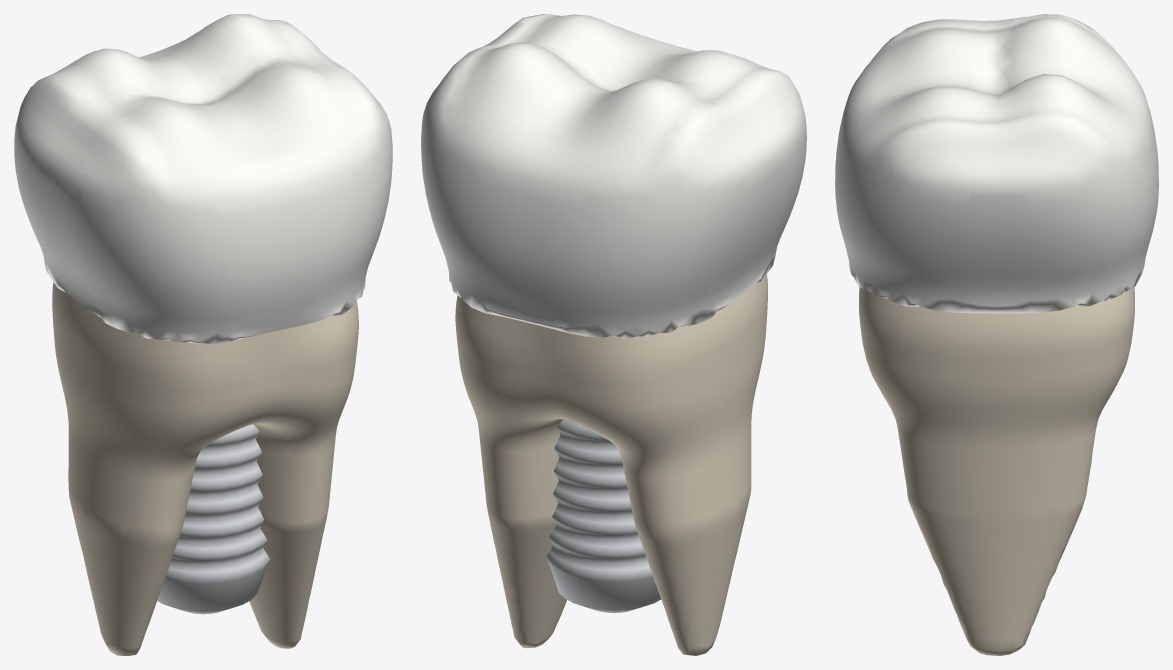
3 renders of one model, left to right at view 1: azimuth 30°, elevation 25°; view 2: azimuth 150°, elevation 25°; view 3: azimuth 270°, elevation 25°, orthographic. The views are drawn at different scales.
Parts seen in each view (by area): view 1: crown, root, implant; view 2: crown, root, implant; view 3: crown, root.
Boxes of the visible parts, x1,y1,x2,y2 form: crown: [14, 14, 392, 344]; root: [52, 282, 358, 655]; implant: [157, 424, 269, 614]; crown: [421, 14, 806, 338]; root: [455, 274, 767, 655]; implant: [546, 419, 661, 613]; crown: [835, 14, 1158, 313]; root: [859, 286, 1134, 655].
Size of the model in its own units: 11.19 by 20.87 by 10.69.
